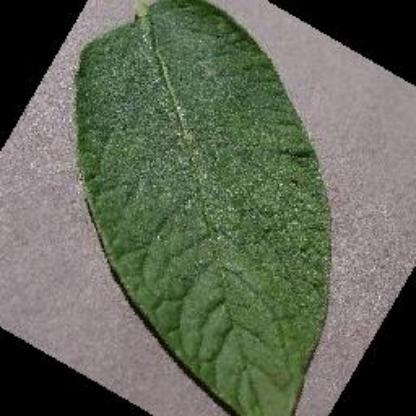Healthy-plant: (64, 0, 338, 416)
